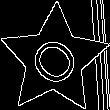O_SE: (22, 27, 86, 92)
